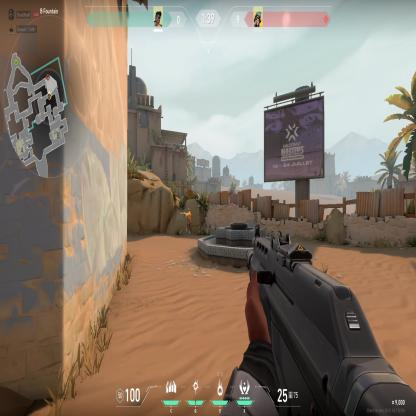enemy: (183, 206, 193, 238)
